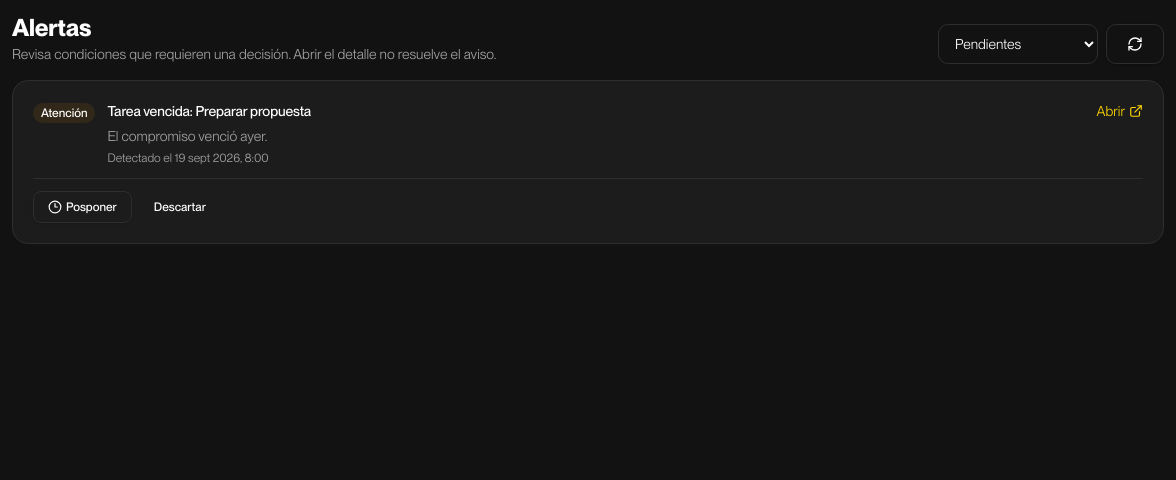
Test: requires a refresh after an uncertain decision result
This screenshot has width=1176, height=480.
Expected: the heading "Tarea vencida: Preparar propuesta" is shown, [108,103,311,119]
Step 1. Click the button "Descartar" → coordinates (180, 207), box [140,191,220,223]
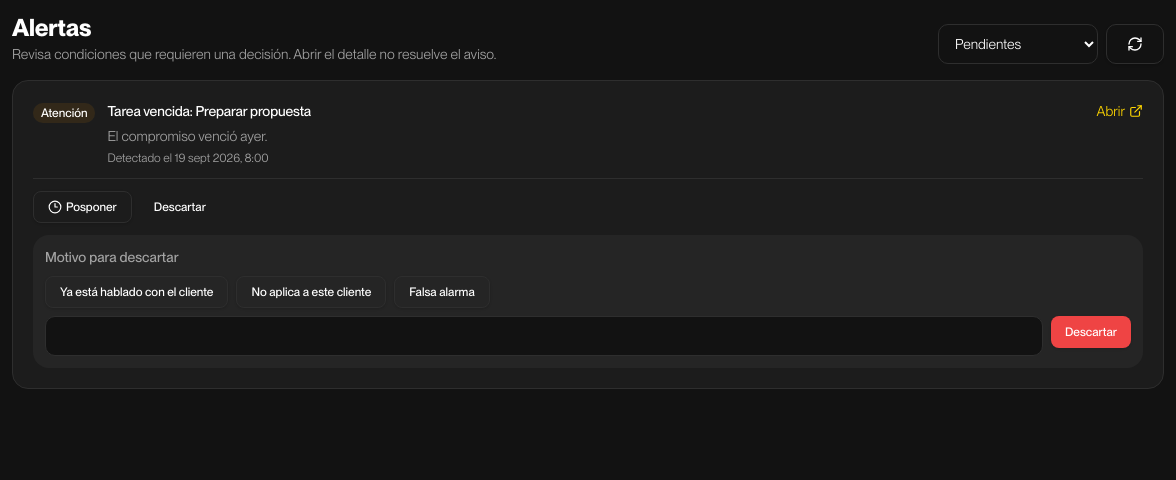
Step 2. Type "No aplica" into the field labelled "Motivo para descartar" → coordinates (544, 336), box [45,316,1043,356]
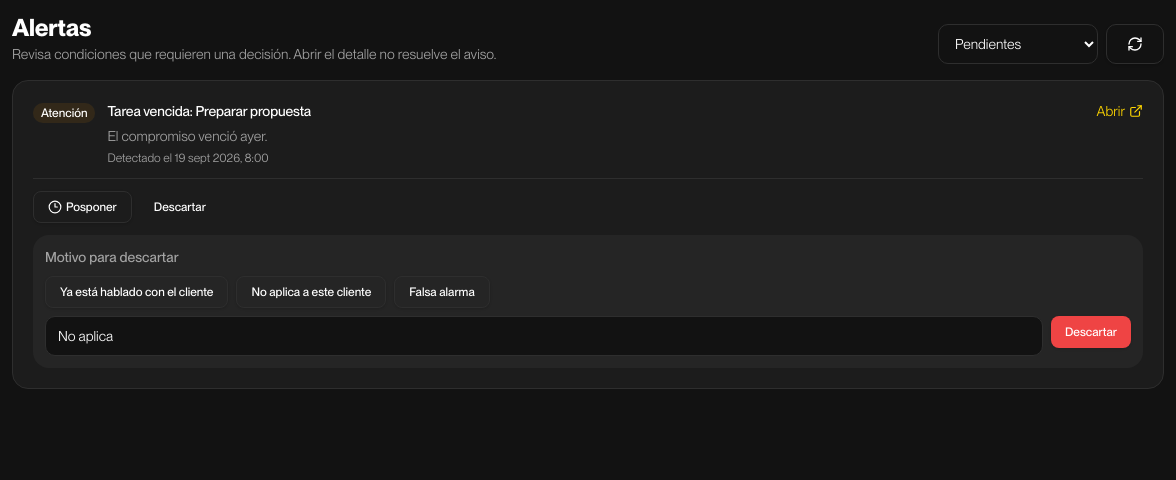
Step 3. Click the button with aria-label "Confirmar descarte" → coordinates (1091, 332), box [1051,316,1131,348]
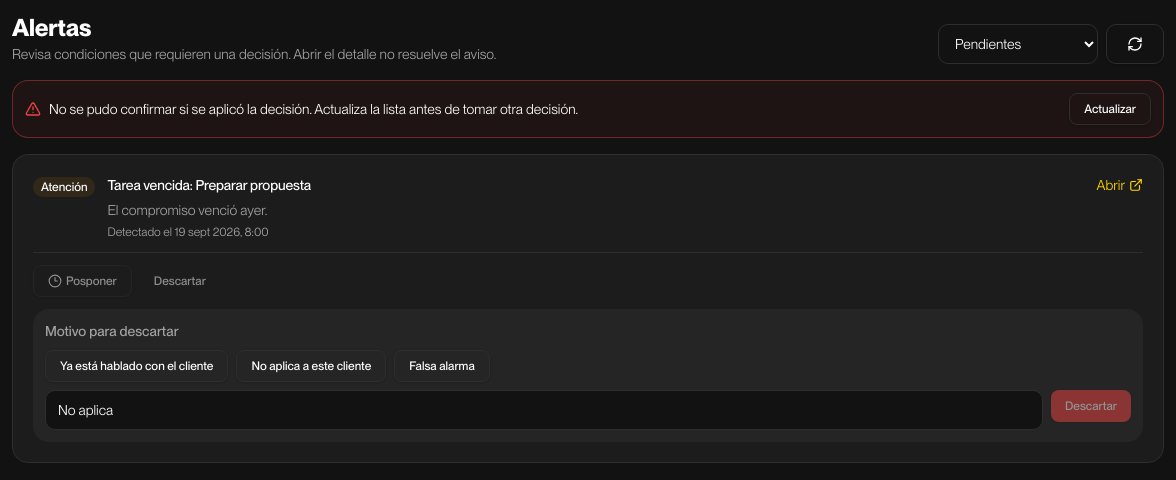
Now the message shows "No se pudo confirmar", box [49,101,578,117]
Now the button "Posponer" is disabled, box [33,265,132,297]
Step 4. Click the button "Actualizar" → coordinates (1110, 109), box [1069,93,1151,125]
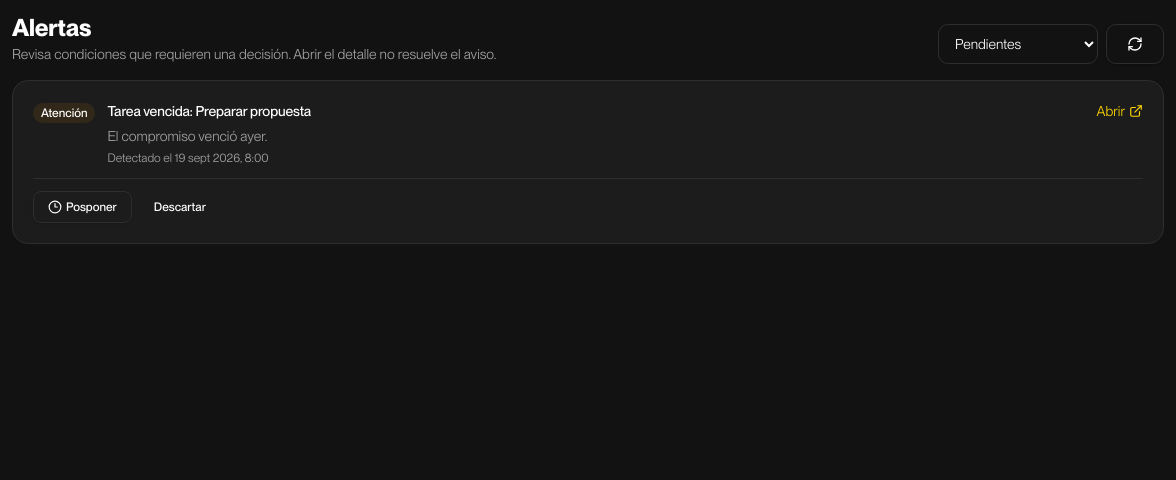
Now the button "Posponer" is enabled, box [33,191,132,223]
